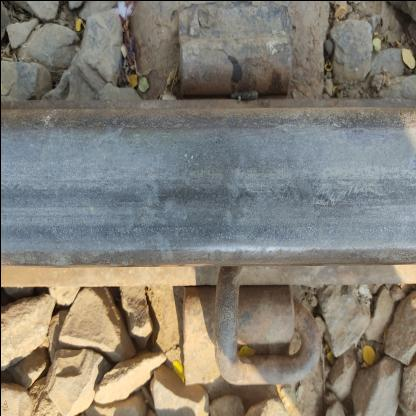Defective 1: (76, 286, 252, 416)
Non Defective 1: (47, 1, 252, 150)
